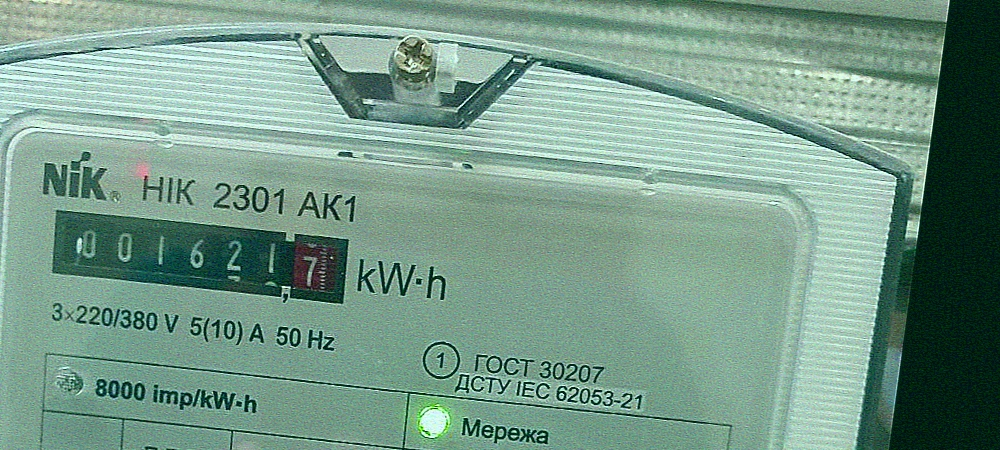0: (112, 225, 138, 265), (77, 223, 101, 259)
1: (263, 236, 281, 274), (152, 229, 170, 266)
2: (223, 234, 248, 273)
6: (186, 233, 209, 270)
7: (296, 249, 321, 288)
screen: (42, 195, 358, 316)
